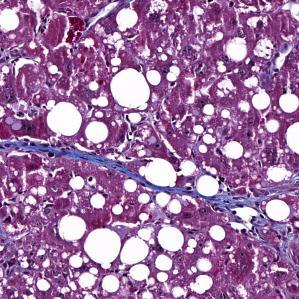fibrosis: (14, 137, 119, 167), (155, 182, 262, 209)
